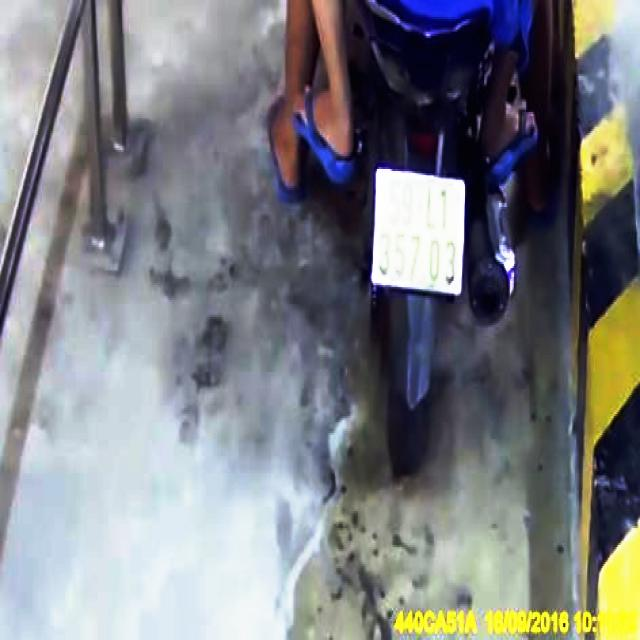license_plate: (372, 169, 468, 296)
